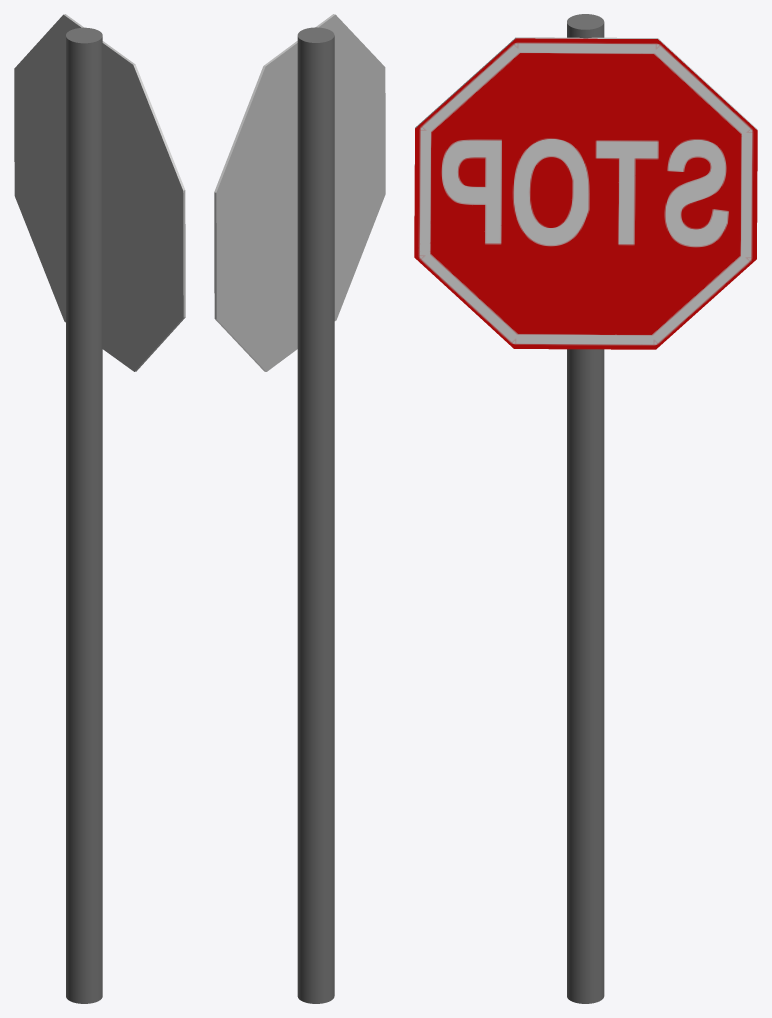
Rendered from stop.obj.
The picture shows the model from 3 angles, left to right: view 1: azimuth 30°, elevation 25°; view 2: azimuth 150°, elevation 25°; view 3: azimuth 270°, elevation 25°; orthographic projection.
Visible parts, largest first — view 1: Cylinder, Cylinder.001; view 2: Cylinder, Cylinder.001; view 3: Cylinder.001, Cylinder.
Boxes of the visible parts, x1,y1,x2,y2 form: Cylinder: (66,27,102,1003); Cylinder.001: (14,14,185,371); Cylinder: (297,27,334,1003); Cylinder.001: (214,14,385,371); Cylinder.001: (414,37,757,349); Cylinder: (567,14,604,1003).
Size of the model in its own units: 0.1809 by 5.04 by 1.61.
